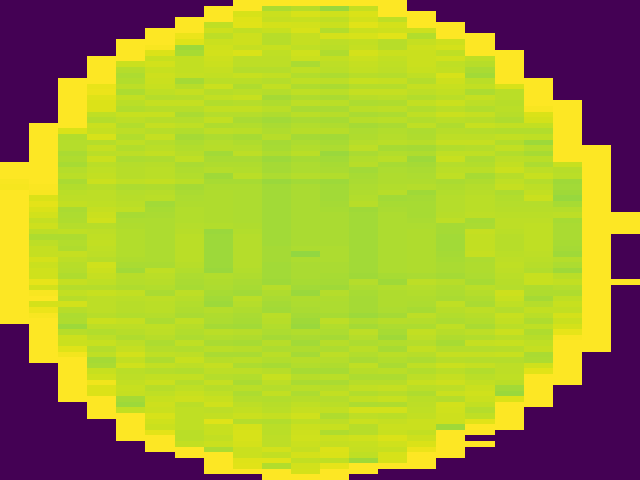sphere: (1, 3, 640, 480)
